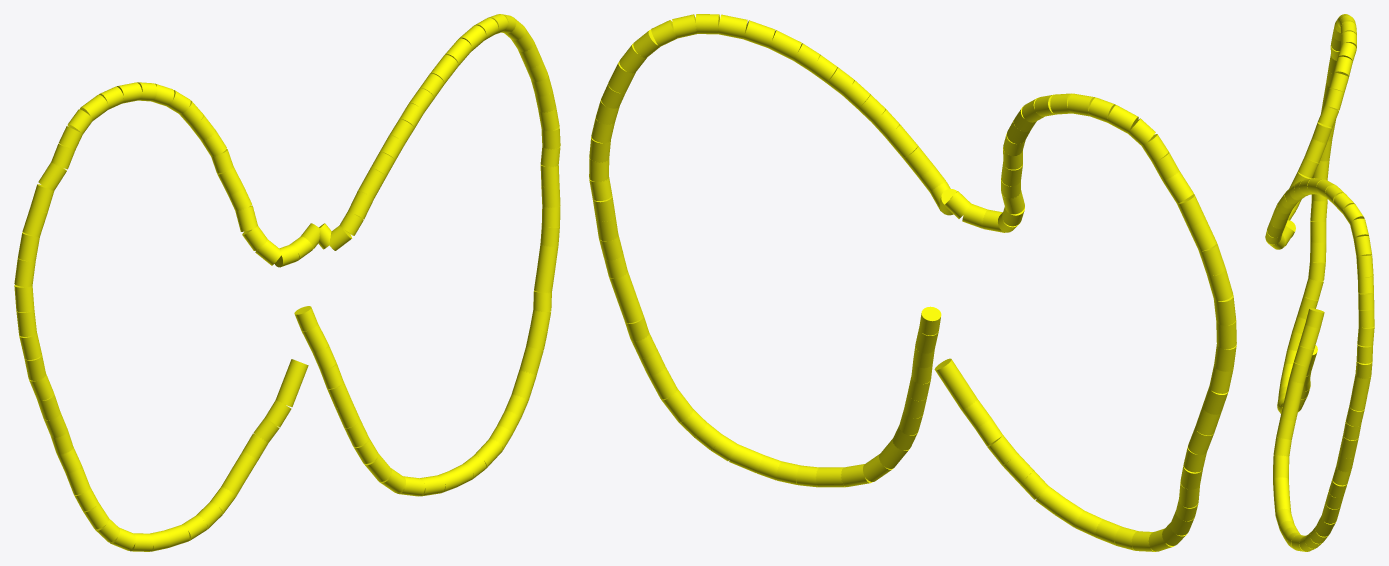
3 renders of one model, left to right at view 1: azimuth 30°, elevation 25°; view 2: azimuth 150°, elevation 25°; view 3: azimuth 270°, elevation 25°, orthographic. The views are drawn at different scales.
Visible parts, largest first — view 1: Cylinder(Clone); view 2: Cylinder(Clone); view 3: Cylinder(Clone) (×59).
Boxes of the visible parts, x1=… form: Cylinder(Clone): x1=275, y1=359, x2=308, y2=406; Cylinder(Clone): x1=934, y1=358, x2=977, y2=409; Cylinder(Clone) (×59): x1=1267, y1=21, x2=1374, y2=543.
Size of the model in its own units: 0.3561 by 0.2711 by 0.0684.
